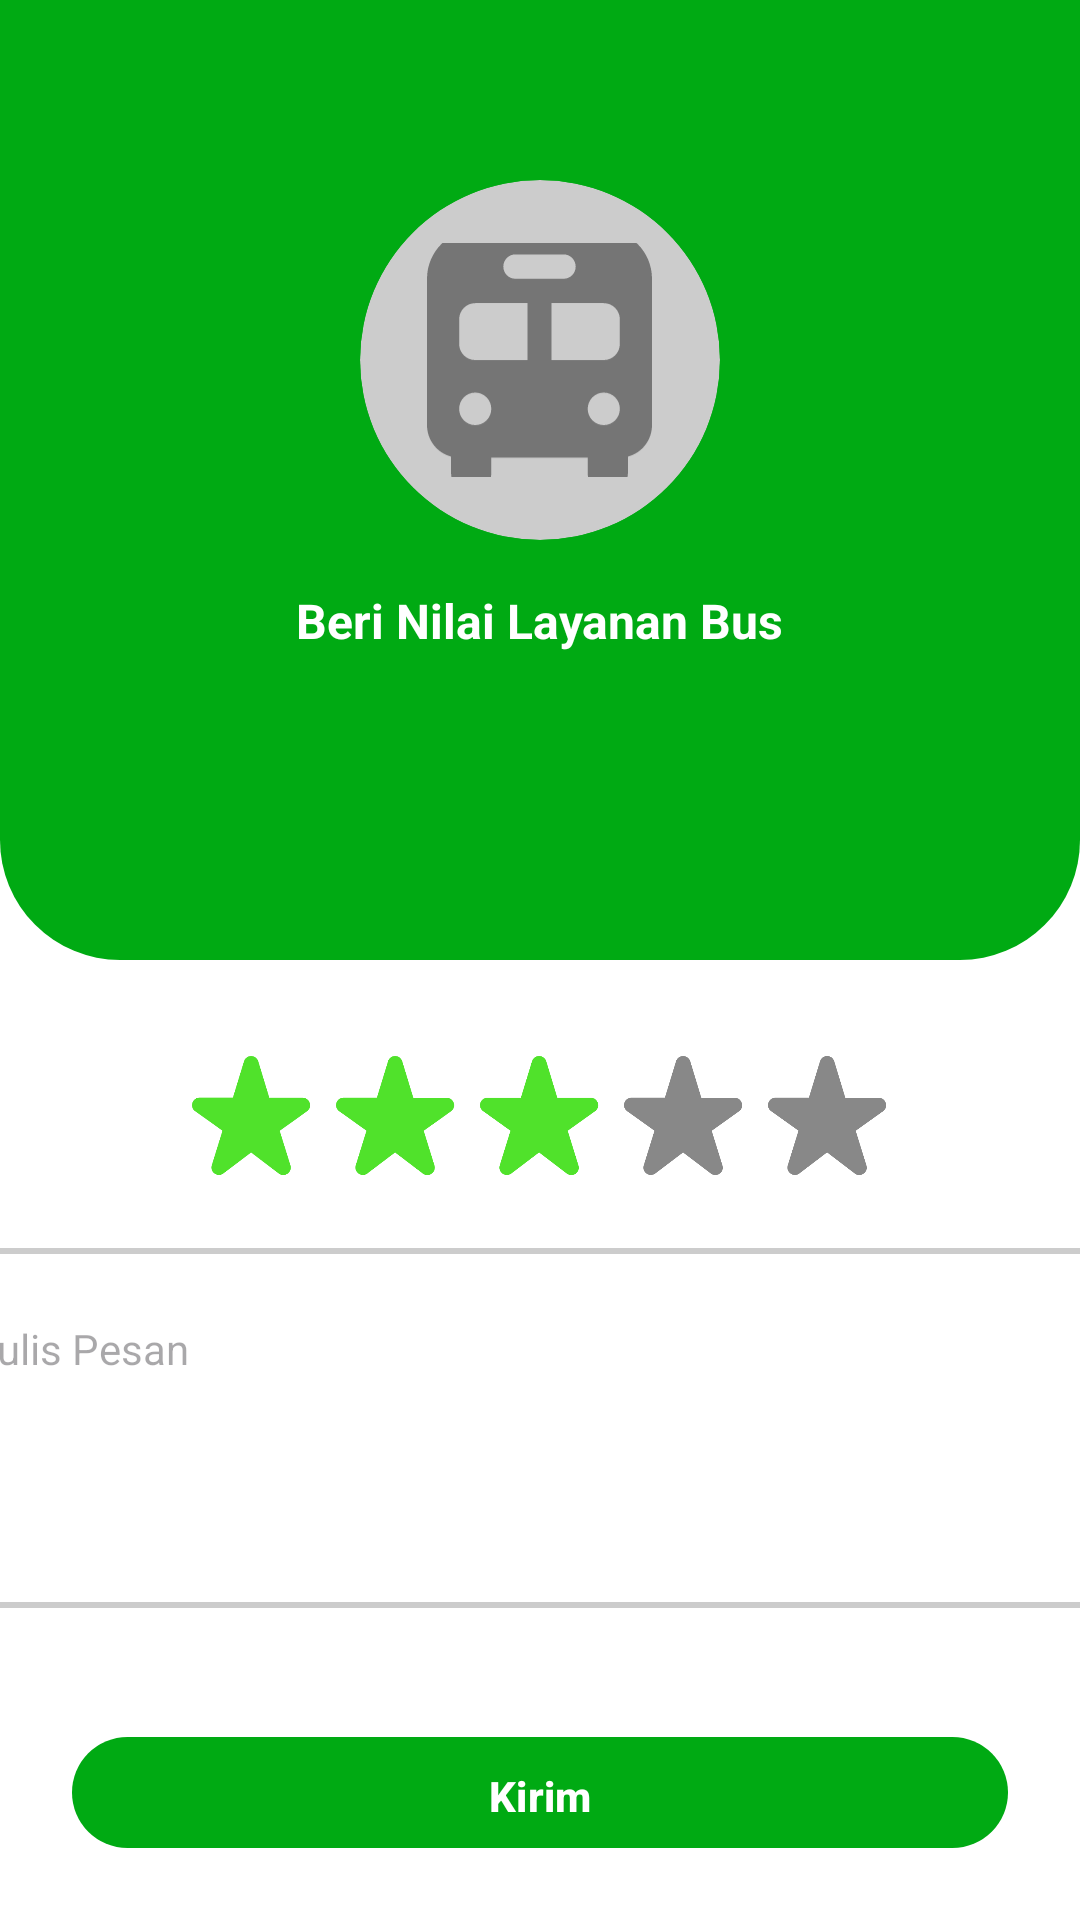

Where to tap for icons on this 1080 x 1920 app screen, as [x,y]:
bintang: [251,1115], [395,1115], [539,1115], [683,1115], [827,1115]
Gambar Bus: [539,360]
